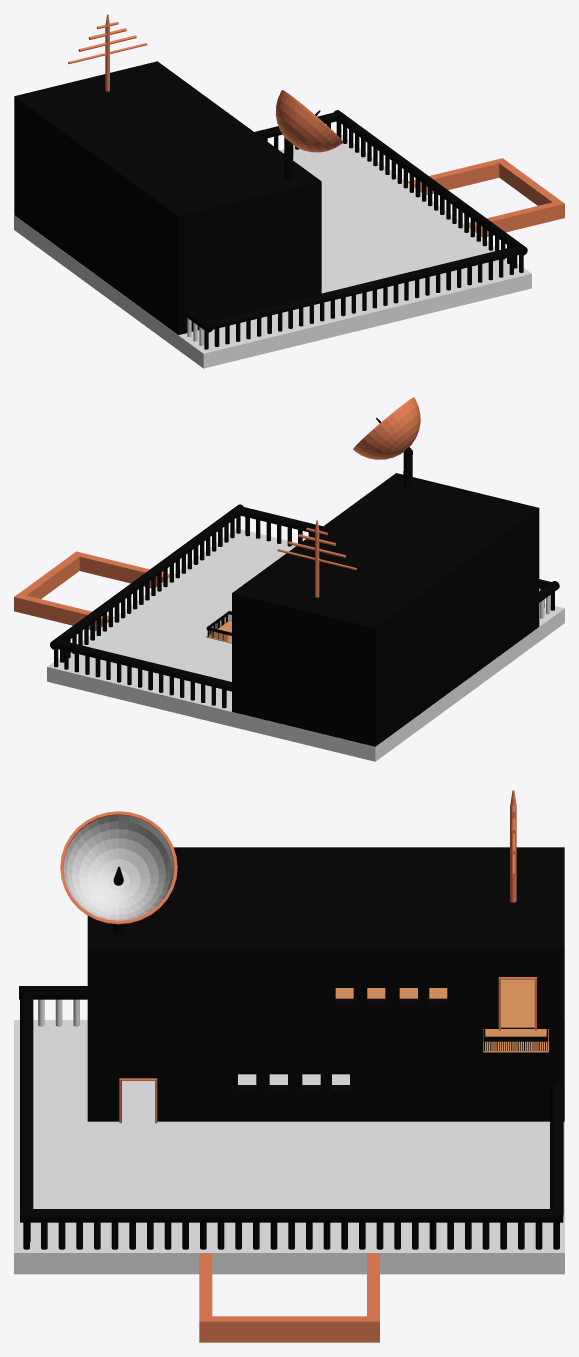
The model's file is ControlStation.fbx.
3 views of the same model, one above another, from view 1: azimuth 30°, elevation 25°; view 2: azimuth 150°, elevation 25°; view 3: azimuth 270°, elevation 25° (orthographic). The views are drawn at different scales.
Parts seen in each view (by area): view 1: Verti4; view 2: Verti4; view 3: Verti4.
Part boxes in pixels (box(x1,y1,x2,y2)): Verti4: box(14, 14, 564, 368); Verti4: box(14, 397, 564, 761); Verti4: box(14, 790, 564, 1342).
Size of the model in its own units: 2491 by 1221 by 1924.
